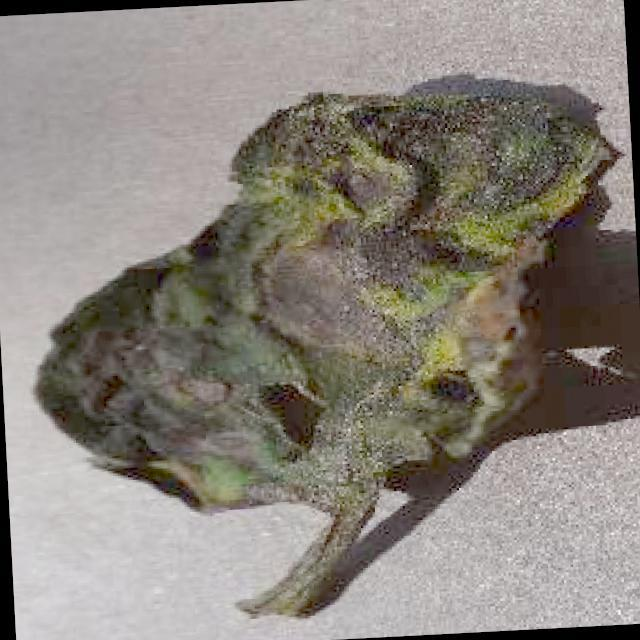Tomato Early blight leaf: (11, 59, 636, 628)
